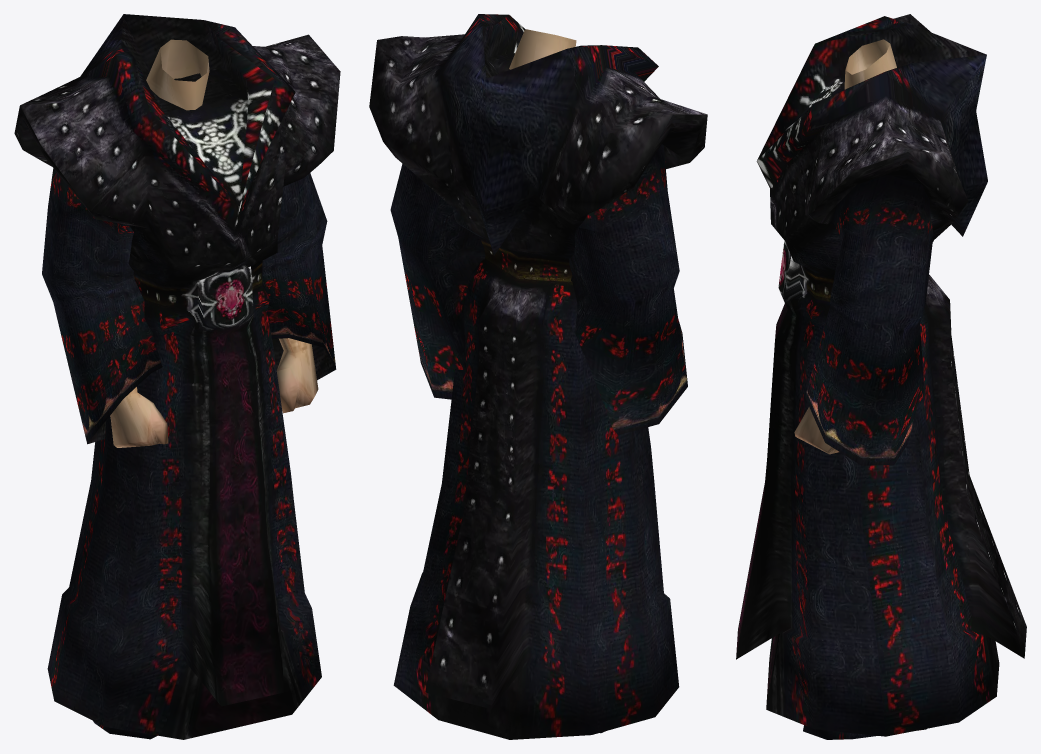
Rendered from MROK_T4_02.glb.
3 views of the same model, side by side, from view 1: azimuth 30°, elevation 25°; view 2: azimuth 150°, elevation 25°; view 3: azimuth 270°, elevation 25° (orthographic). The views are drawn at different scales.
Parts seen in each view (by area): view 1: MROK_T4_02; view 2: MROK_T4_02; view 3: MROK_T4_02.
Boxes of the visible parts, x1,y1,x2,y2 form: MROK_T4_02: (14, 14, 340, 739); MROK_T4_02: (369, 14, 707, 739); MROK_T4_02: (736, 14, 1026, 739).
Size of the model in its own units: 0.7899 by 1.67 by 0.6743.
Materials: 2 (2 with a texture image).
